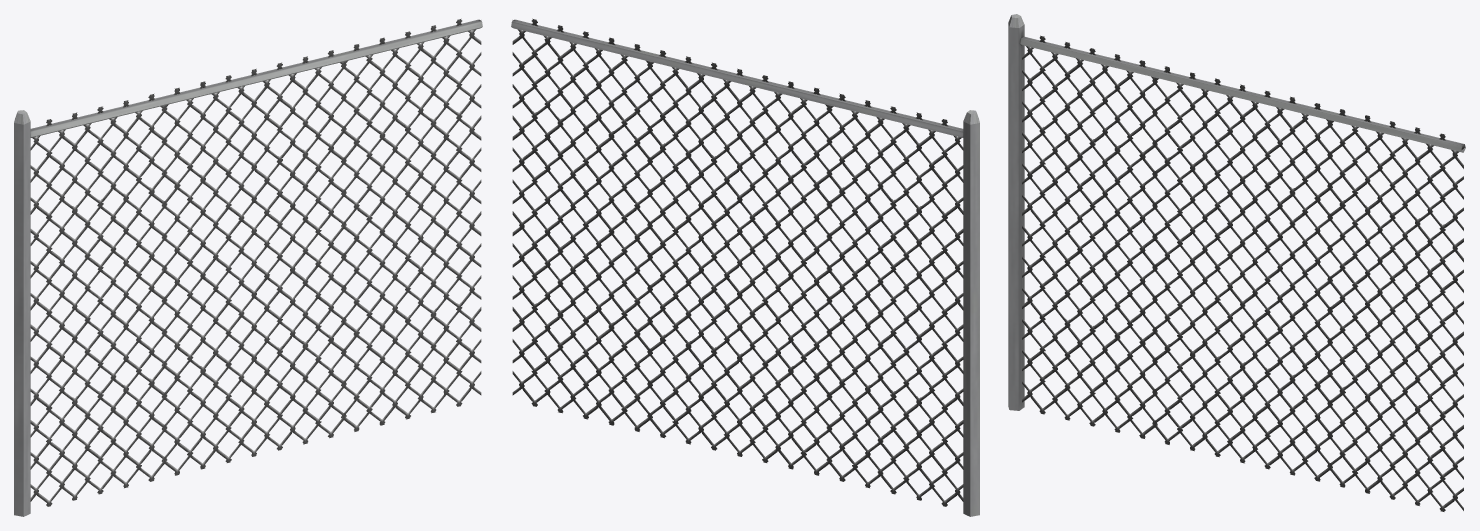
Rendered from Chain Fence 2.fbx.
3 renders of one model, left to right at view 1: azimuth 30°, elevation 25°; view 2: azimuth 150°, elevation 25°; view 3: azimuth 330°, elevation 25°, orthographic. The views are drawn at different scales.
Parts seen in each view (by area): view 1: Chain Fence 2; view 2: Chain Fence 2; view 3: Chain Fence 2.
Boxes of the visible parts, <box> form: Chain Fence 2: <box>14,18,482,516</box>; Chain Fence 2: <box>511,18,979,516</box>; Chain Fence 2: <box>1008,14,1465,511</box>.
Size of the model in its own units: 300 by 246 by 9.51.
